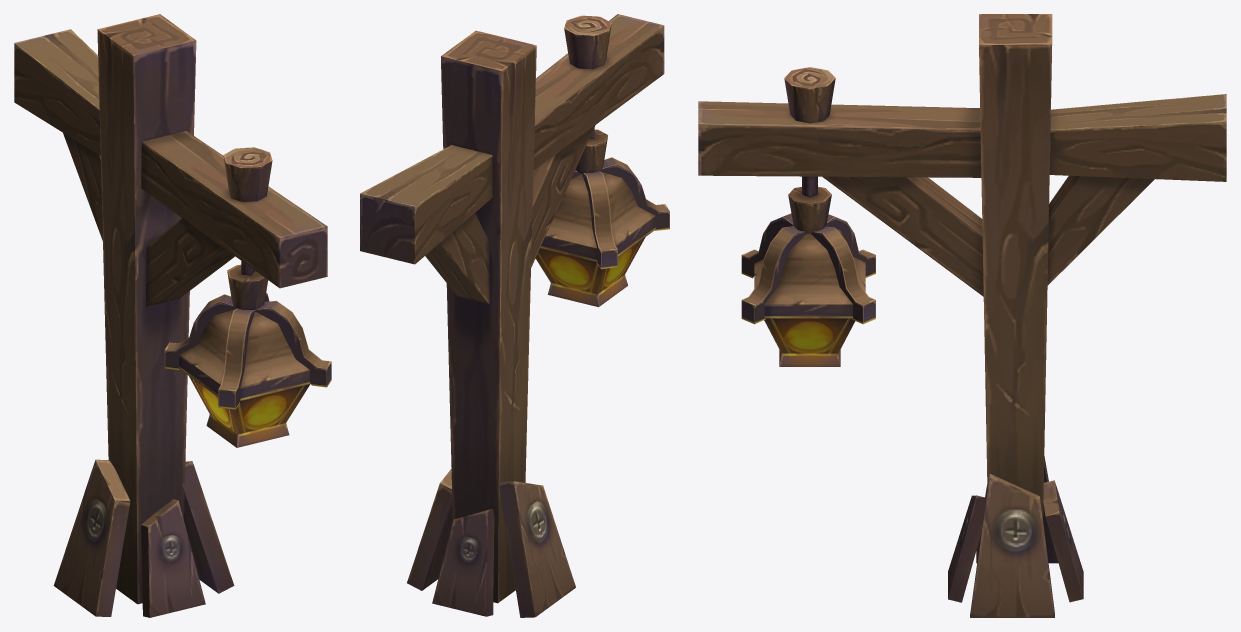
The model's file is scenes_town_light01.FBX.
3 renders of one model, left to right at view 1: azimuth 30°, elevation 25°; view 2: azimuth 150°, elevation 25°; view 3: azimuth 270°, elevation 25°, orthographic. The views are drawn at different scales.
Visible parts, largest first — view 1: scenes_town_light01; view 2: scenes_town_light01; view 3: scenes_town_light01.
Part boxes in pixels (<box>): scenes_town_light01: <box>14,14,331,617</box>; scenes_town_light01: <box>360,14,669,617</box>; scenes_town_light01: <box>698,14,1226,617</box>.
Size of the model in its own units: 173 by 676 by 577.
